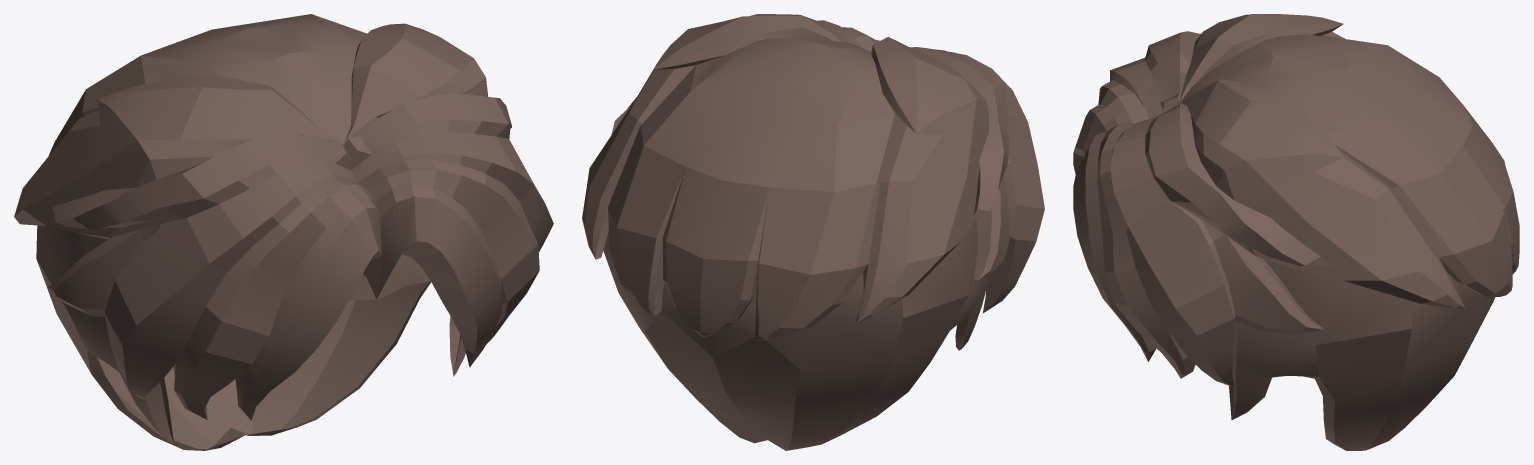
Rendered from hair4.fbx.
The picture shows the model from 3 angles, left to right: view 1: azimuth 30°, elevation 25°; view 2: azimuth 150°, elevation 25°; view 3: azimuth 270°, elevation 25°; orthographic projection. The views are drawn at different scales.
Visible parts, largest first — view 1: hair4; view 2: hair4; view 3: hair4.
Boxes of the visible parts, x1=… form: hair4: x1=14, y1=14, x2=553, y2=450; hair4: x1=582, y1=14, x2=1044, y2=450; hair4: x1=1073, y1=14, x2=1519, y2=450.
Bounding box in the file's own units: 150 × 140 × 149.
